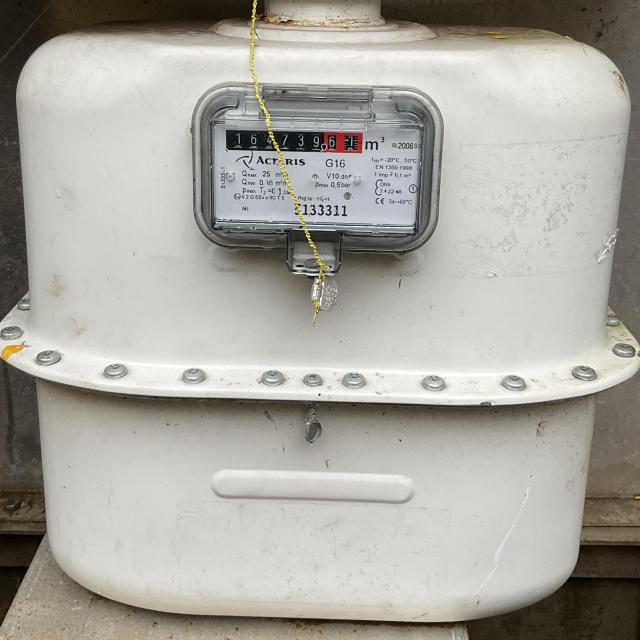gaz_meter: (198, 88, 434, 241)
indication: (223, 123, 365, 152)
